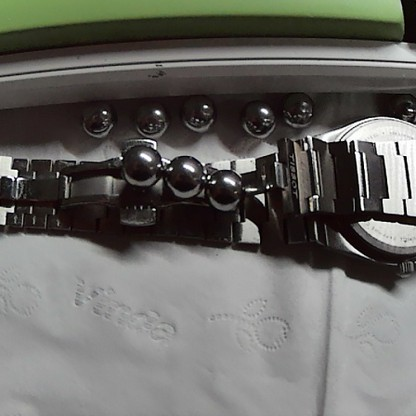ironball: (175, 91, 226, 141), (203, 166, 253, 215), (117, 144, 164, 186), (73, 101, 120, 141), (132, 96, 168, 139), (166, 155, 202, 194), (242, 101, 275, 136), (281, 90, 309, 124)
